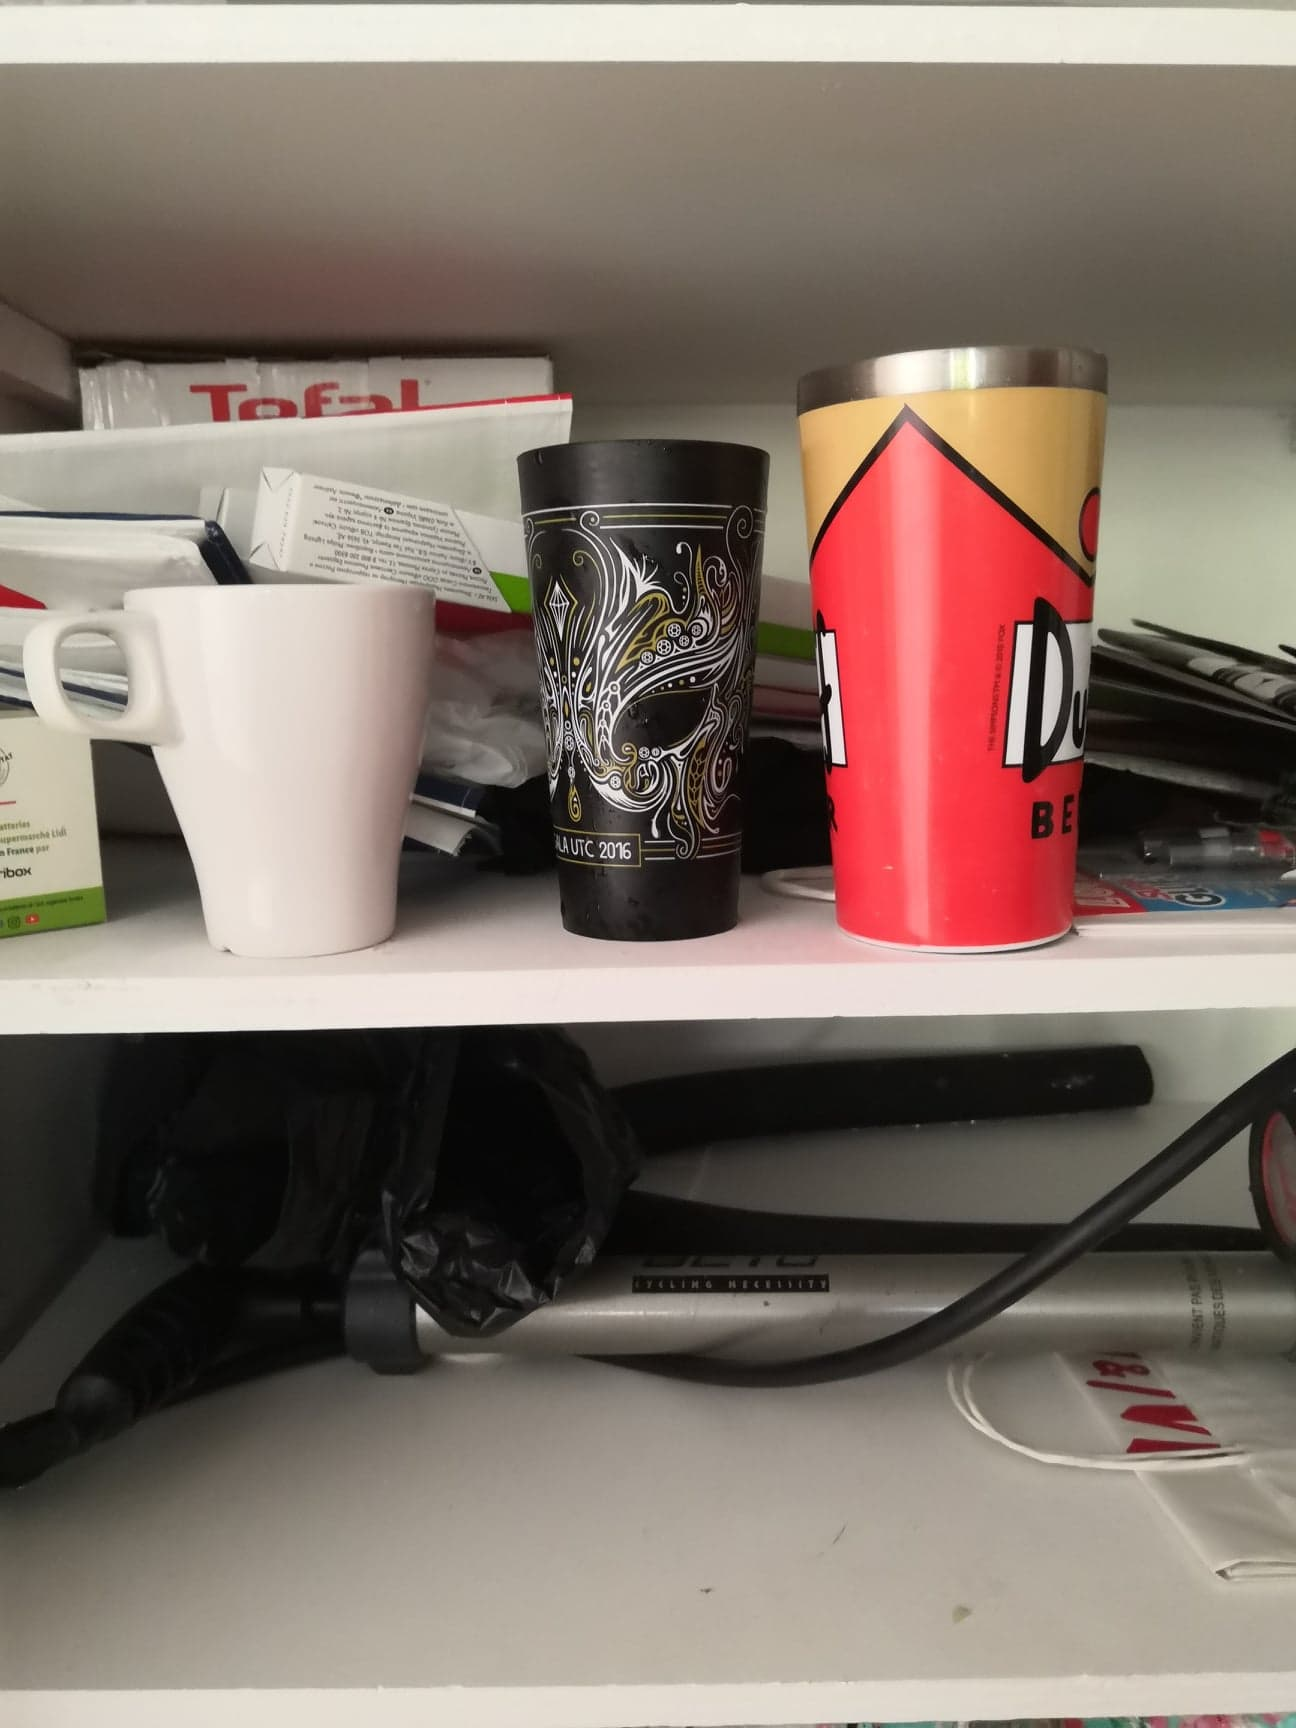ecocup: (516, 433, 771, 946)
